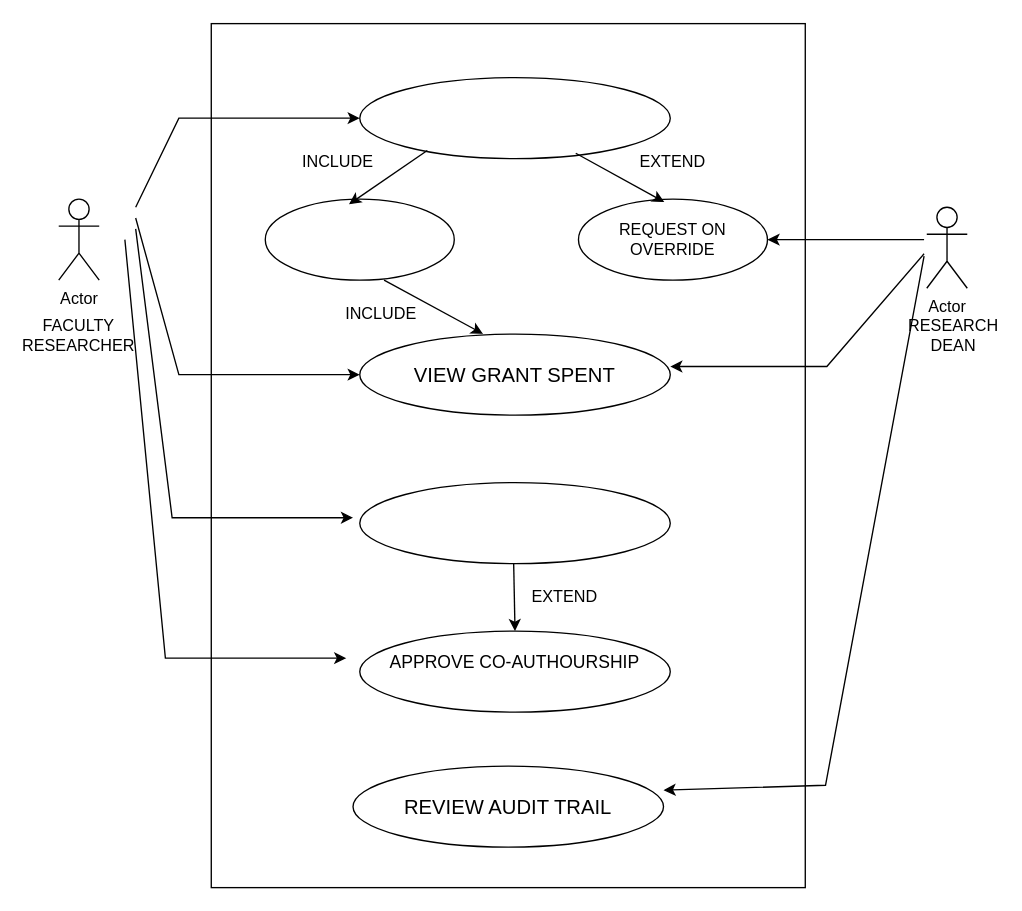
Image size: 1022x911. Some labels were removed from this diagram. The shapes that lost their labels are listed below. From the top down, each one's centre as x and y in pixels, then its label:
point 514,117: LOG AN EXPENSE
point 359,239: CHECK BUDGET BALANCE
point 514,522: SUBMIT A PUBLICATION
